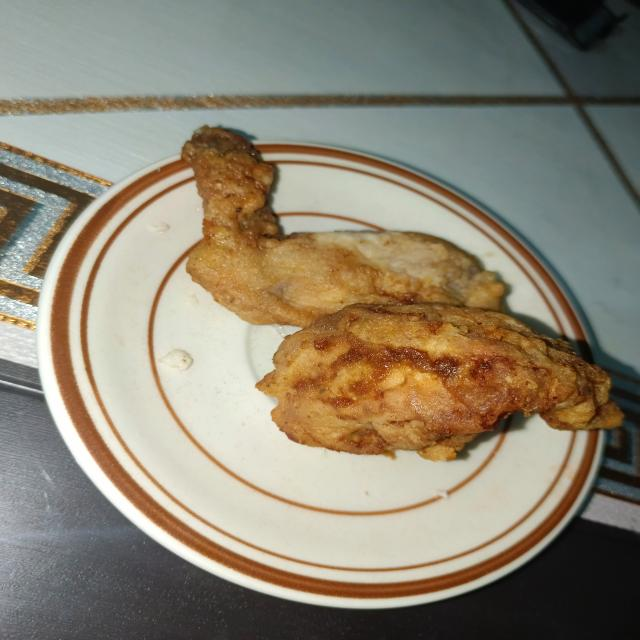Chicken -Fried Chicken-: (146, 118, 640, 479)
